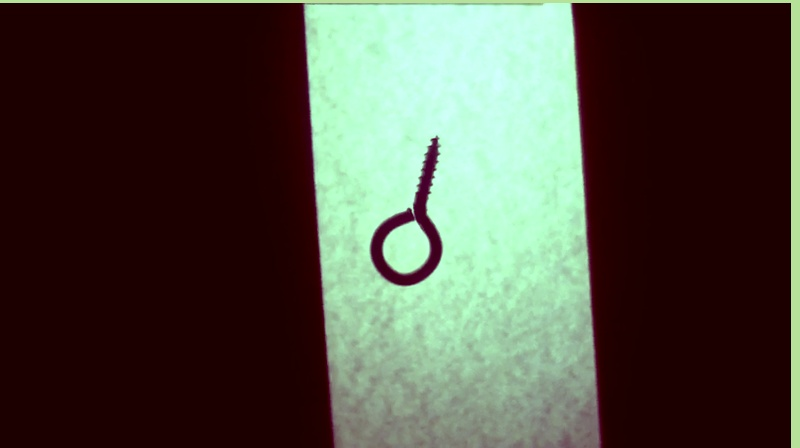O001: (364, 131, 446, 286)
